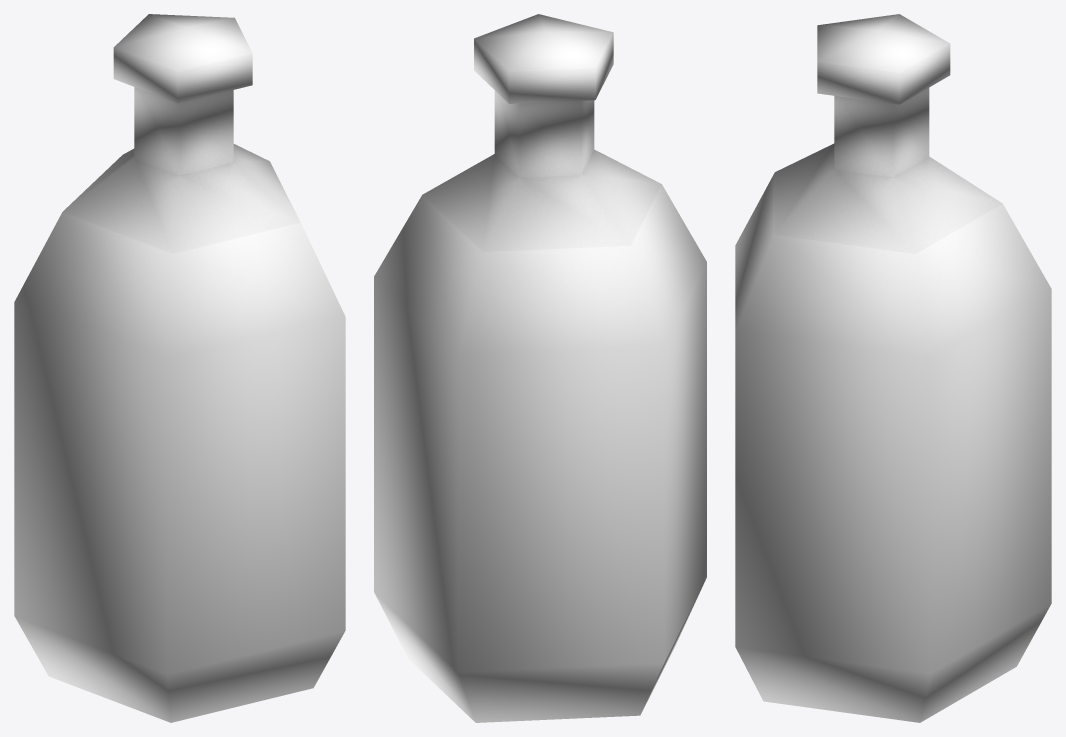
The model's file is Bottle.dae.
3 views of the same model, side by side, from view 1: azimuth 30°, elevation 25°; view 2: azimuth 150°, elevation 25°; view 3: azimuth 270°, elevation 25° (orthographic).
Parts seen in each view (by area): view 1: Cylinder; view 2: Cylinder; view 3: Cylinder.
Boxes of the visible parts, x1,y1,x2,y2 form: Cylinder: (14,14,345,722); Cylinder: (374,14,706,722); Cylinder: (735,14,1051,722).
Size of the model in its own units: 0.9511 by 0.9045 by 2.
1 material, 1 textured.
